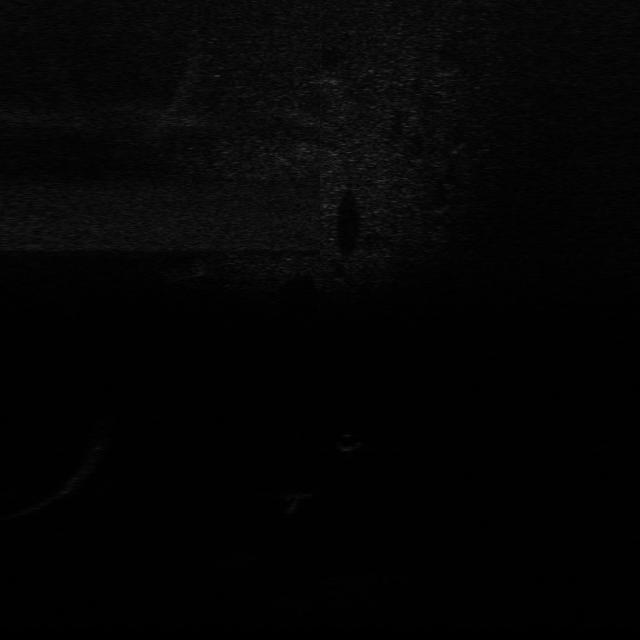ball: (334, 429, 364, 452)
square cage: (277, 487, 323, 513)
